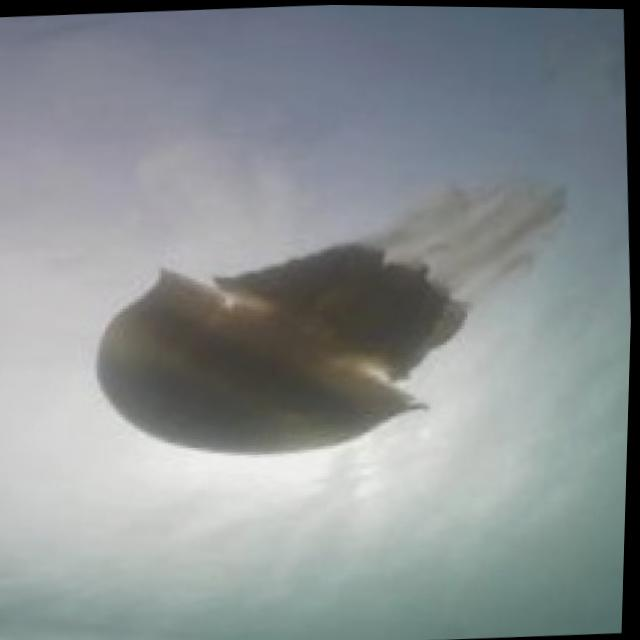Jellyfish: (82, 166, 579, 465)
